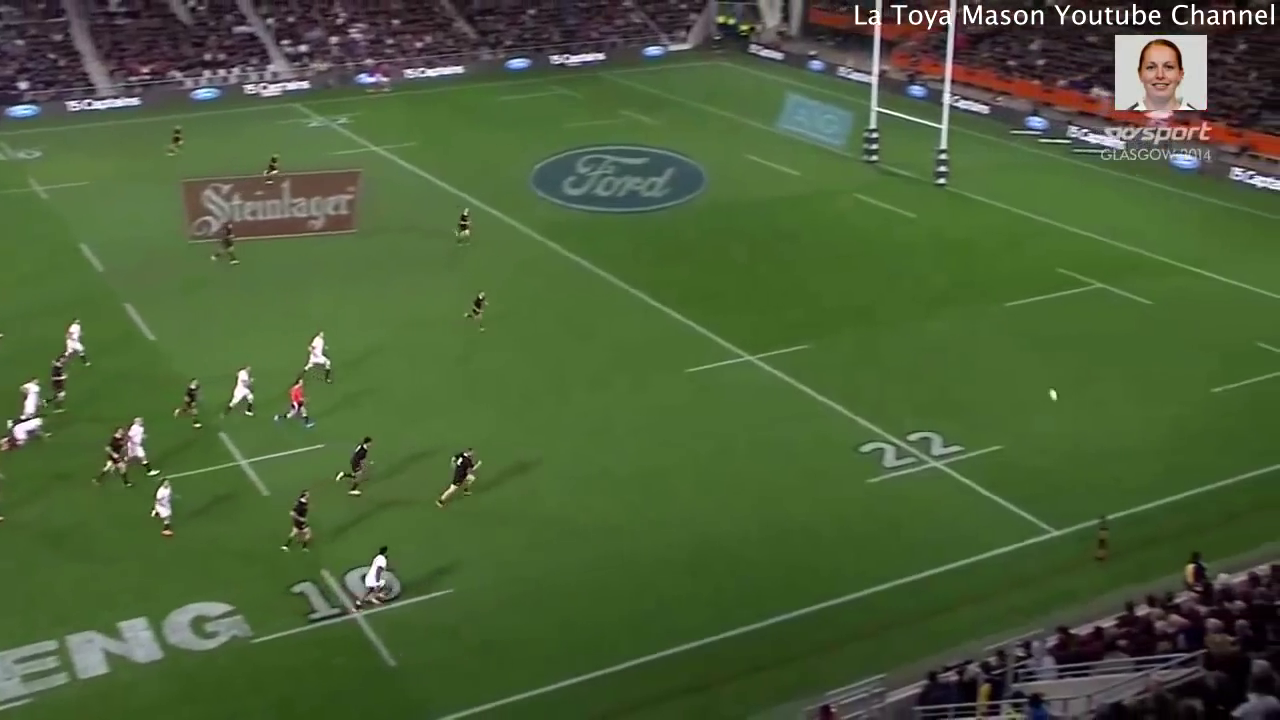10_metre: (238, 554, 464, 676), (145, 424, 329, 502), (1, 173, 93, 204), (1, 133, 48, 166)
ball: (1043, 379, 1061, 408)
player: (322, 427, 381, 508), (427, 444, 489, 516), (211, 359, 266, 428), (264, 366, 321, 432), (157, 368, 207, 441), (273, 479, 318, 560), (117, 412, 163, 484), (351, 537, 393, 612), (37, 348, 76, 428), (294, 323, 339, 389), (141, 476, 185, 540), (95, 419, 133, 492), (451, 281, 501, 336), (53, 316, 97, 375), (156, 117, 197, 162), (7, 371, 46, 415), (254, 148, 289, 196), (1, 412, 46, 449), (447, 197, 477, 252)
post: (853, 28, 962, 198)
